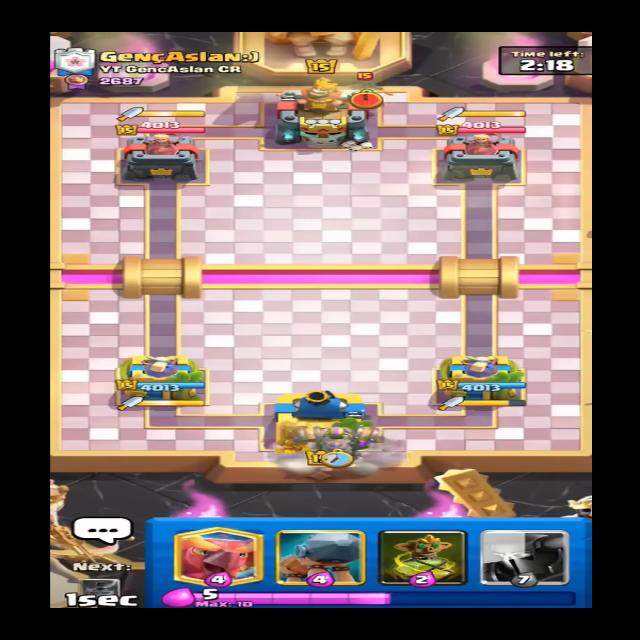bandit: (352, 70, 397, 106)
